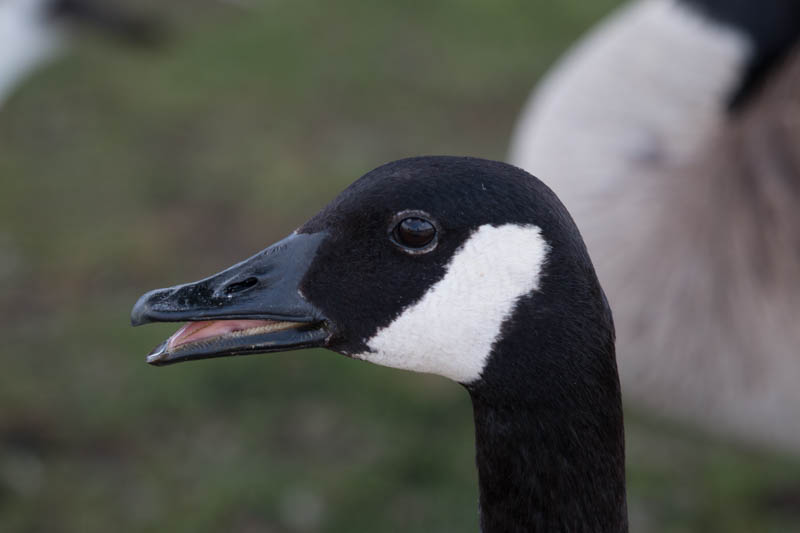goose-head: (128, 153, 617, 394)
